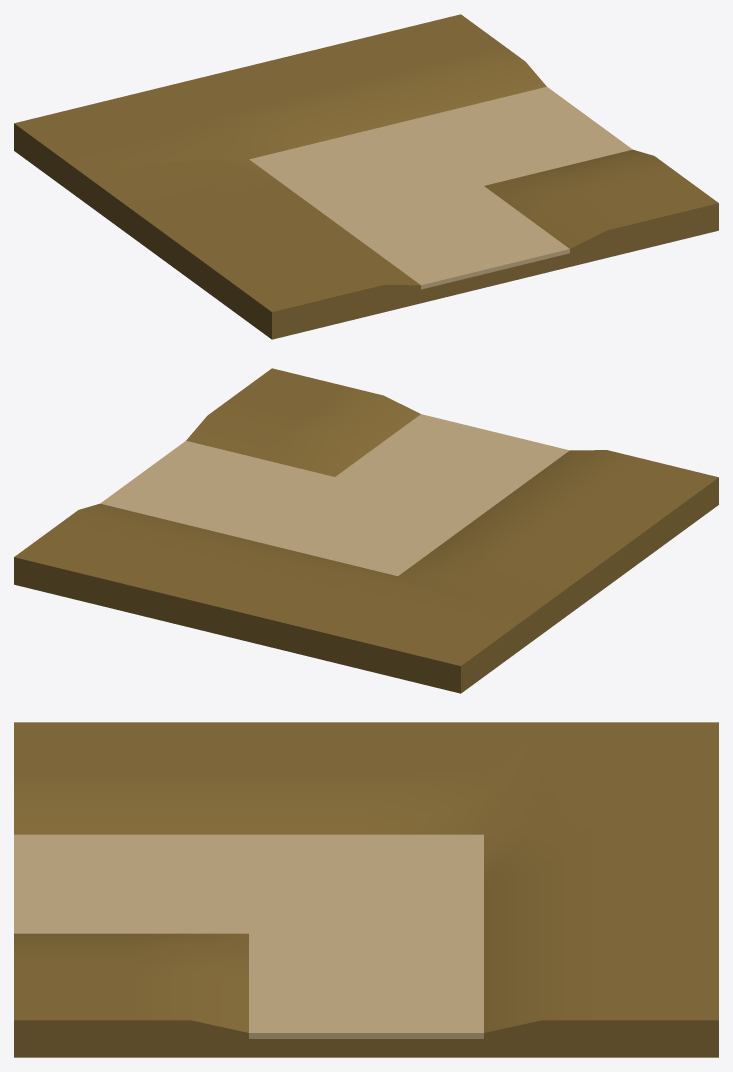
File: oldRoad_L-road.fbx
The picture shows the model from 3 angles, top to bottom: view 1: azimuth 30°, elevation 25°; view 2: azimuth 150°, elevation 25°; view 3: azimuth 270°, elevation 25°; orthographic projection. The views are drawn at different scales.
Parts seen in each view (by area): view 1: pCube3, pasted__miti3; view 2: pCube3, pasted__miti3; view 3: pCube3, pasted__miti3.
Part boxes in pixels (x1,y1,x2,y2): pCube3: [14, 14, 718, 339]; pasted__miti3: [249, 87, 632, 289]; pCube3: [14, 368, 718, 693]; pasted__miti3: [100, 414, 569, 576]; pCube3: [14, 722, 718, 1057]; pasted__miti3: [14, 834, 483, 1038].
Bounding box in the file's own units: 1700 × 100 × 1700.
